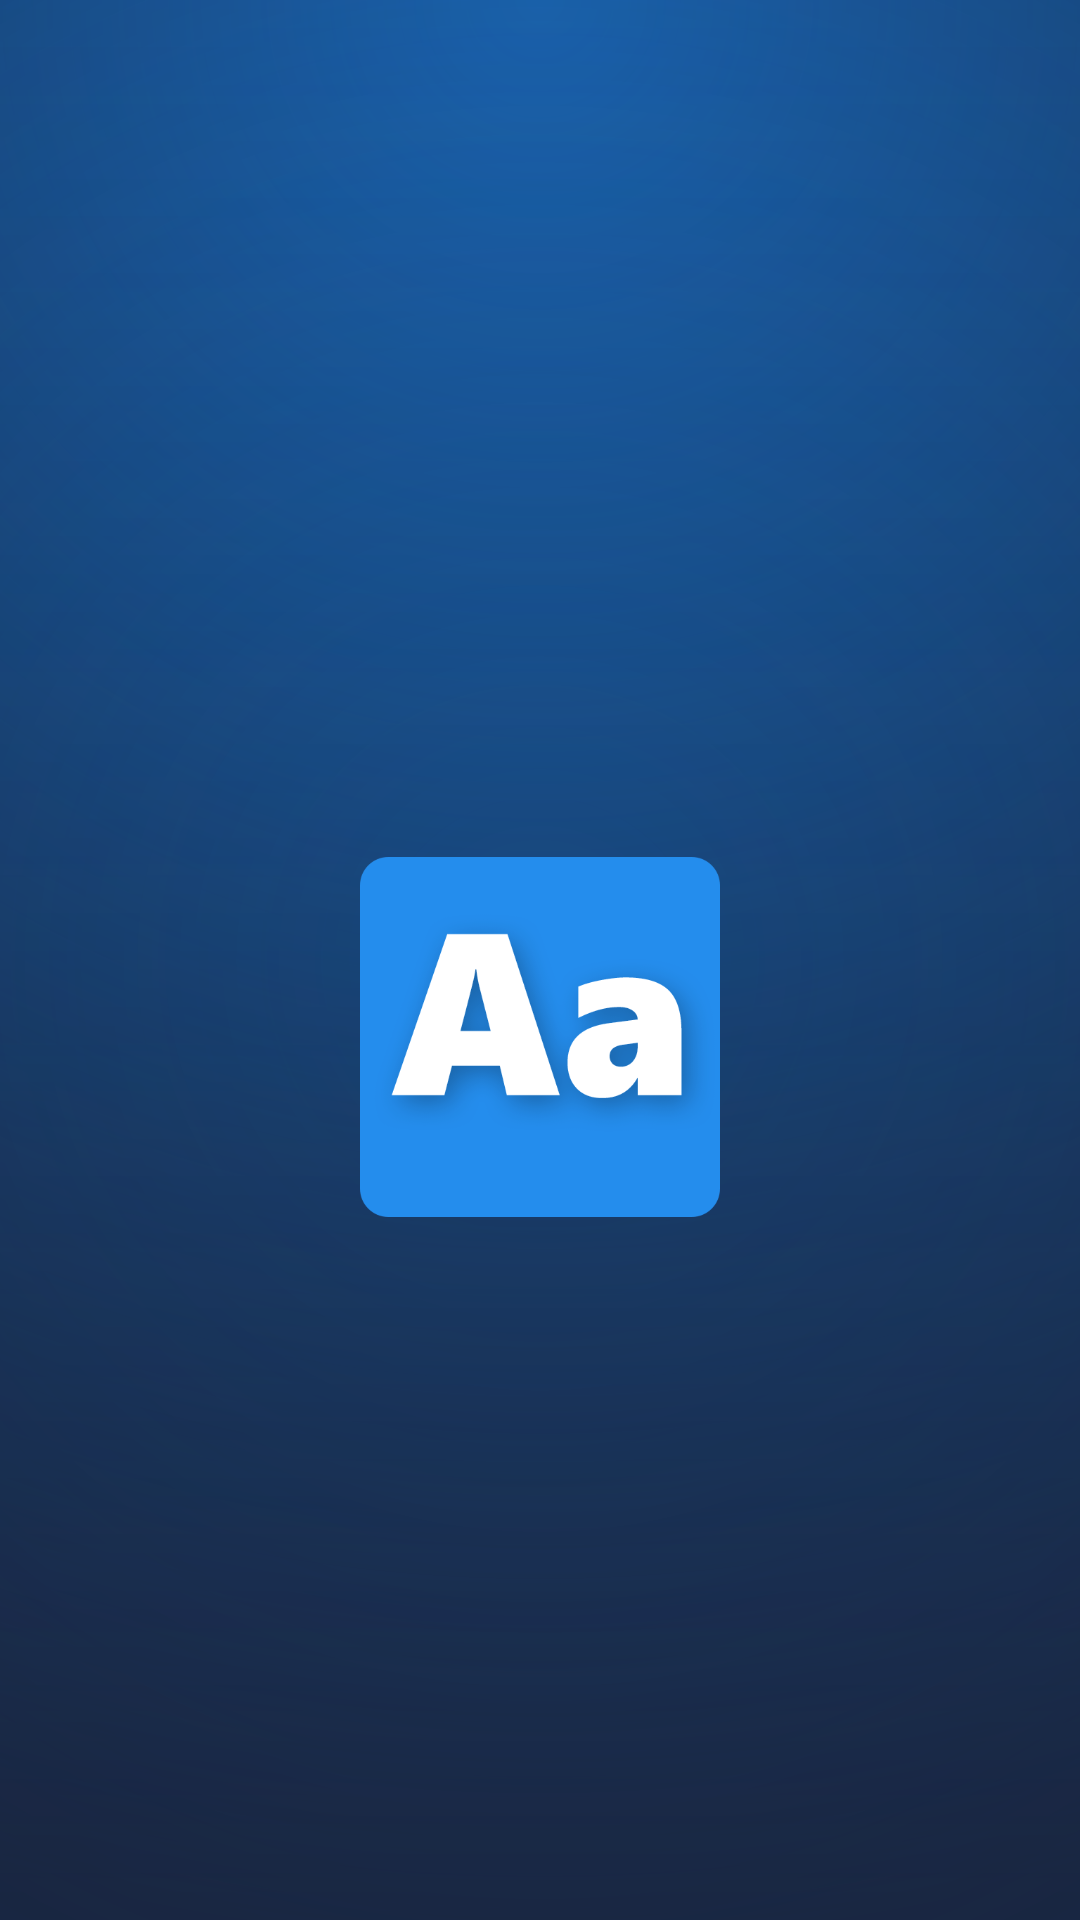

Point at icon controls on the screen. Image size 1080 × 1920, points as (x,y).
title: (540,1037)
